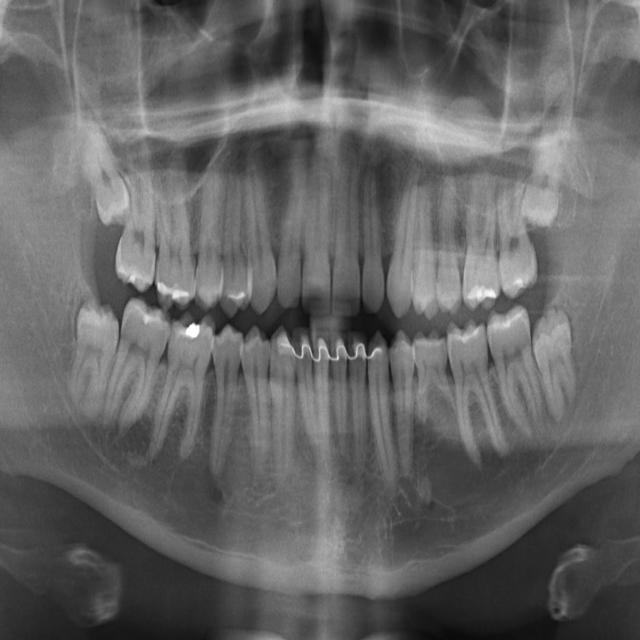AmalgamRestoration: (179, 318, 205, 348)
CompositeResinRestoration: (460, 280, 502, 318), (156, 272, 195, 311)
ImpactedTooth: (61, 298, 121, 400), (521, 135, 574, 231), (85, 130, 131, 232)
